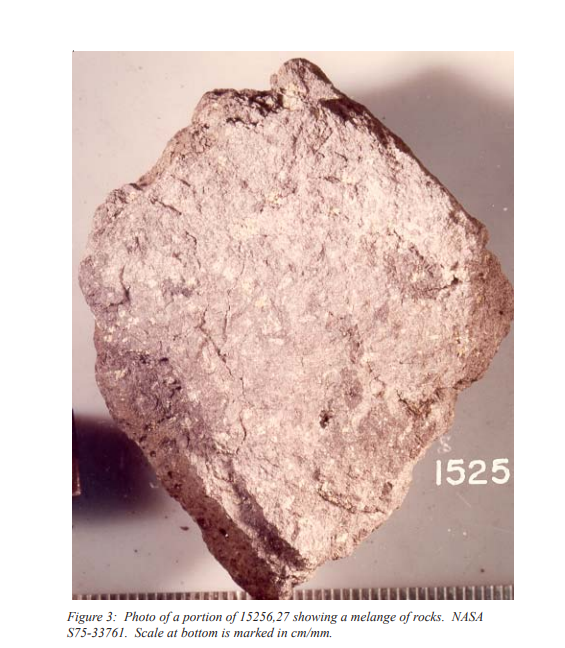Basalt: (89, 104, 509, 587)
